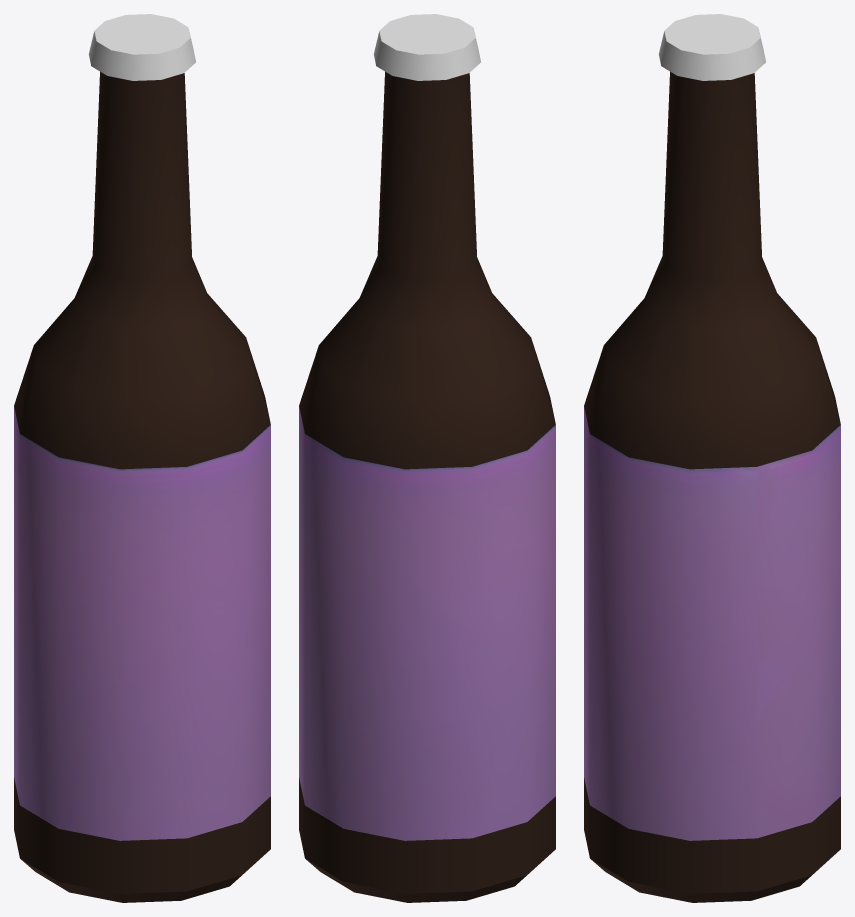
Rendered from SM_drink_beer_04.fbx.
3 views of the same model, side by side, from view 1: azimuth 30°, elevation 25°; view 2: azimuth 150°, elevation 25°; view 3: azimuth 270°, elevation 25° (orthographic).
Parts seen in each view (by area): view 1: Object32290; view 2: Object32290; view 3: Object32290.
Part boxes in pixels (x1,y1,x2,y2): Object32290: [14, 14, 270, 902]; Object32290: [299, 14, 555, 902]; Object32290: [584, 14, 840, 902].
Bounding box in the file's own units: 8.54 × 30.12 × 8.54.
